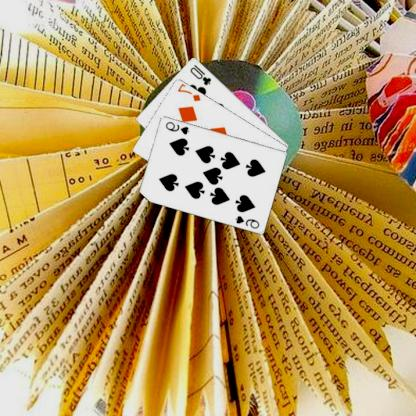10C: (189, 62, 214, 86)
7D: (177, 82, 204, 102)
9S: (235, 212, 262, 230), (164, 119, 192, 135)
